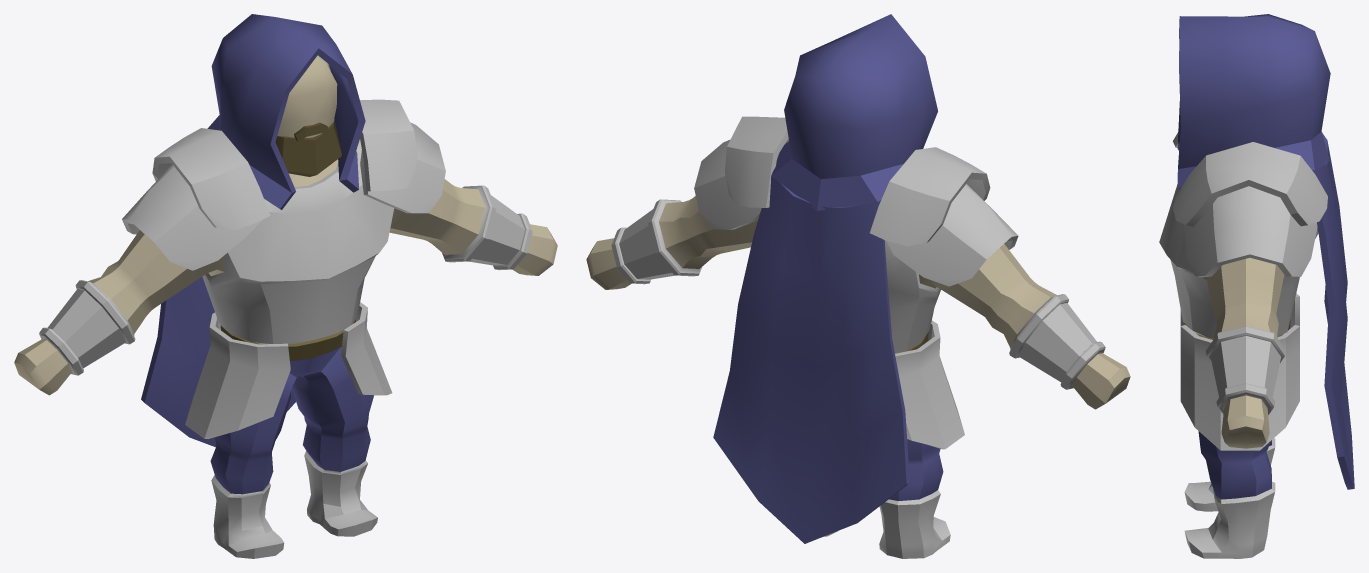
Rendered from character-export.fbx.
The picture shows the model from 3 angles, left to right: view 1: azimuth 30°, elevation 25°; view 2: azimuth 150°, elevation 25°; view 3: azimuth 270°, elevation 25°; orthographic projection.
Visible parts, largest first — view 1: base_unit, shoulder_pads, hood, belt, cape, beard; view 2: cape, base_unit, hood, shoulder_pads, belt; view 3: base_unit, hood, shoulder_pads, cape, belt.
Boxes of the visible parts, x1=… form: base_unit: x1=14, y1=55, x2=557, y2=558; shoulder_pads: x1=122, y1=99, x2=445, y2=270; hood: x1=207, y1=14, x2=365, y2=209; belt: x1=185, y1=302, x2=392, y2=438; cape: x1=141, y1=276, x2=295, y2=447; beard: x1=275, y1=119, x2=341, y2=176; cape: x1=713, y1=175, x2=909, y2=543; base_unit: x1=586, y1=153, x2=1130, y2=558; hood: x1=771, y1=14, x2=937, y2=210; shoulder_pads: x1=694, y1=116, x2=1018, y2=286; belt: x1=895, y1=320, x2=964, y2=449; base_unit: x1=1159, y1=184, x2=1318, y2=558; hood: x1=1177, y1=14, x2=1330, y2=189; shoulder_pads: x1=1172, y1=131, x2=1327, y2=277; cape: x1=1313, y1=132, x2=1354, y2=489; belt: x1=1180, y1=293, x2=1299, y2=450.
Bounding box in the file's own units: 876 × 789 × 276.
